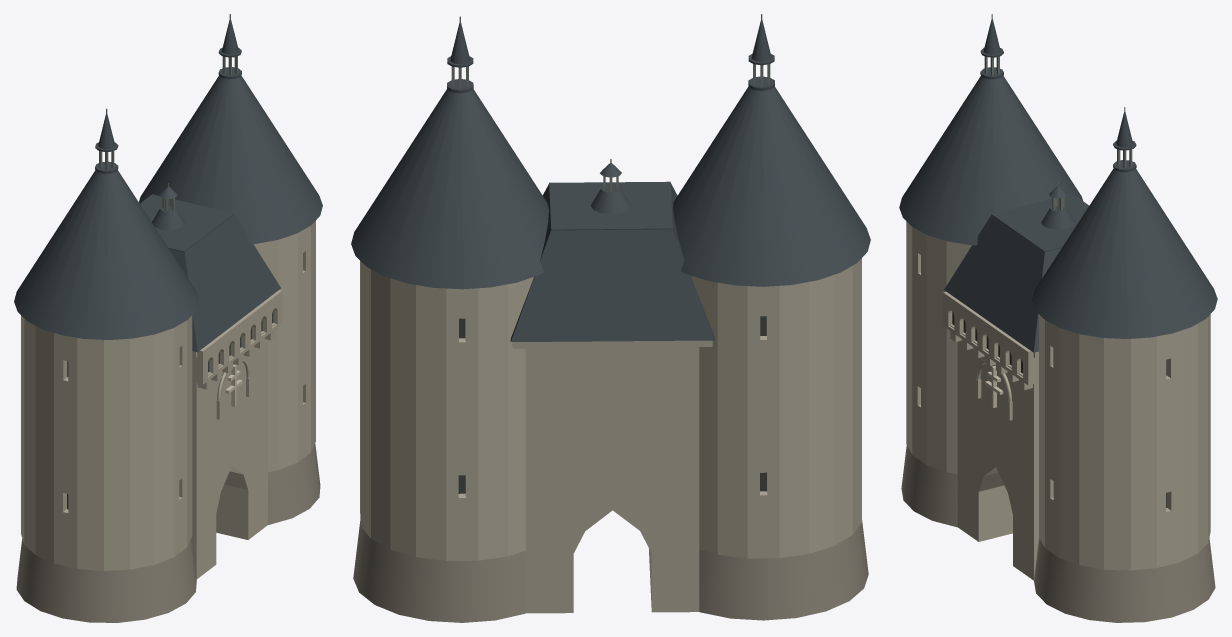
File: porte-de-la-craffe-near.glb
3 views of the same model, side by side, from view 1: azimuth 30°, elevation 25°; view 2: azimuth 150°, elevation 25°; view 3: azimuth 270°, elevation 25° (orthographic). The views are drawn at different scales.
Parts seen in each view (by area): view 1: porte-de-la-craffe-0-stone, porte-de-la-craffe-0-roof, porte-de-la-craffe-0-base, porte-de-la-craffe-0-metal; view 2: porte-de-la-craffe-0-stone, porte-de-la-craffe-0-roof, porte-de-la-craffe-0-base; view 3: porte-de-la-craffe-0-stone, porte-de-la-craffe-0-roof, porte-de-la-craffe-0-base, porte-de-la-craffe-0-metal.
Part boxes in pixels (x1,y1,x2,y2): porte-de-la-craffe-0-stone: (21,221,315,579); porte-de-la-craffe-0-roof: (14,19,322,352); porte-de-la-craffe-0-base: (16,443,320,622); porte-de-la-craffe-0-metal: (99,14,237,210); porte-de-la-craffe-0-stone: (360,258,861,613); porte-de-la-craffe-0-roof: (351,20,870,341); porte-de-la-craffe-0-base: (353,520,868,622); porte-de-la-craffe-0-stone: (906,221,1210,580); porte-de-la-craffe-0-roof: (899,19,1217,352); porte-de-la-craffe-0-base: (901,445,1215,622); porte-de-la-craffe-0-metal: (984,14,1132,210).
Size of the model in its own units: 21.94 by 28.5 by 17.23.
